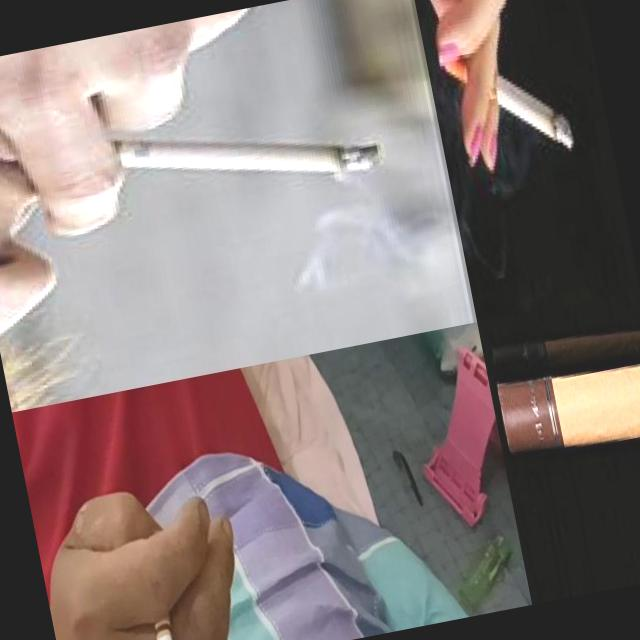smoke: (31, 80, 385, 234), (441, 28, 576, 172), (496, 354, 640, 468), (137, 576, 183, 640)
